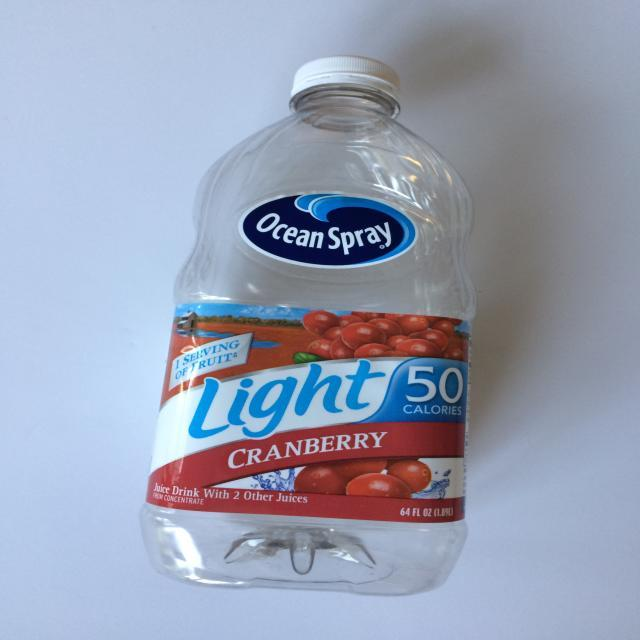plastic: (140, 47, 481, 602)
